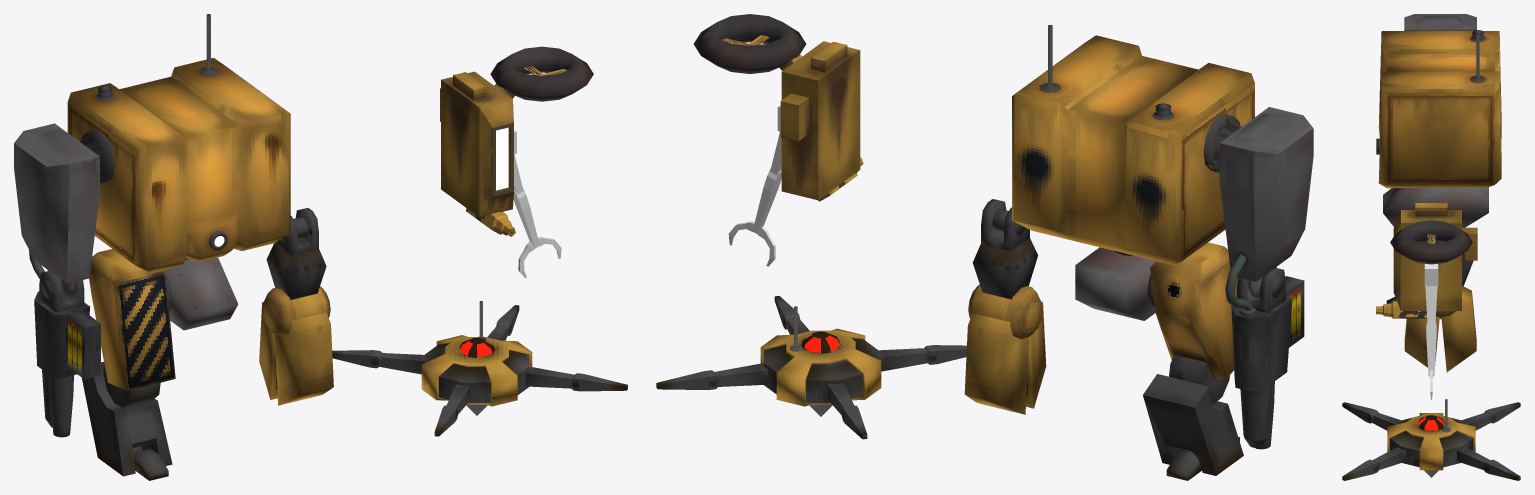
The model's file is WalkerBot.glb.
3 renders of one model, left to right at view 1: azimuth 30°, elevation 25°; view 2: azimuth 150°, elevation 25°; view 3: azimuth 270°, elevation 25°, orthographic. The views are drawn at different scales.
Visible parts, largest first — view 1: Cube.006, Cube.007, Cube, Cube.004, Cube.003, Cube.010, Cylinder.002, Torus.001, Cube.002, Cylinder.003, Cube.001, Cube.005 (+8 smaller); view 2: Cube.006, Cube.007, Cube, Cube.004, Cube.003, Cylinder.002, Cube.010, Torus.001, Cube.002, Cylinder.003, Cube.008, Cube.005 (+9 smaller); view 3: Cube.006, Cube, Cube.010, Torus.001, Cube.002, Cylinder.003, Cylinder, Cube.001, Cube.008, Cube.007, Cube.012, Cylinder.016 (+2 smaller).
Boxes of the visible parts, box(x1,y1,x2,y2) form: Cube.006: box(67, 58, 290, 273); Cube.007: box(14, 123, 99, 298); Cube: box(440, 71, 513, 217); Cube.004: box(89, 249, 175, 390); Cube.003: box(34, 291, 100, 437); Cube.010: box(259, 302, 333, 405); Cylinder.002: box(81, 362, 172, 476); Torus.001: box(490, 46, 593, 101); Cube.002: box(164, 257, 238, 330); Cylinder.003: box(421, 335, 532, 415); Cube.001: box(332, 350, 627, 391); Cube.005: box(39, 208, 318, 312); Cube.006: box(1012, 35, 1254, 265); Cube.007: box(1219, 107, 1313, 297); Cube: box(780, 41, 860, 200); Cube.004: box(1150, 242, 1237, 379); Cube.003: box(1231, 276, 1304, 449); Cylinder.002: box(1143, 374, 1243, 475); Cube.010: box(964, 302, 1046, 414); Torus.001: box(693, 14, 806, 73); Cube.002: box(1075, 247, 1155, 320); Cylinder.003: box(760, 328, 881, 416); Cube.008: box(656, 345, 966, 389); Cube.005: box(981, 199, 1285, 313); Cube.006: box(1378, 31, 1501, 188); Cube: box(1393, 203, 1477, 310); Cube.010: box(1404, 286, 1476, 372); Torus.001: box(1390, 220, 1472, 264); Cube.002: box(1383, 187, 1488, 227); Cylinder.003: box(1387, 413, 1475, 477); Cylinder: box(1389, 418, 1473, 467); Cube.001: box(1342, 402, 1520, 480); Cube.008: box(1342, 402, 1520, 480); Cube.007: box(1404, 14, 1476, 30); Cube.012: box(1425, 286, 1437, 399); Cylinder.016: box(1376, 301, 1426, 318).
Bounding box in the file's own units: 24.21 × 18.41 × 8.5.
6 materials, 4 textured.
